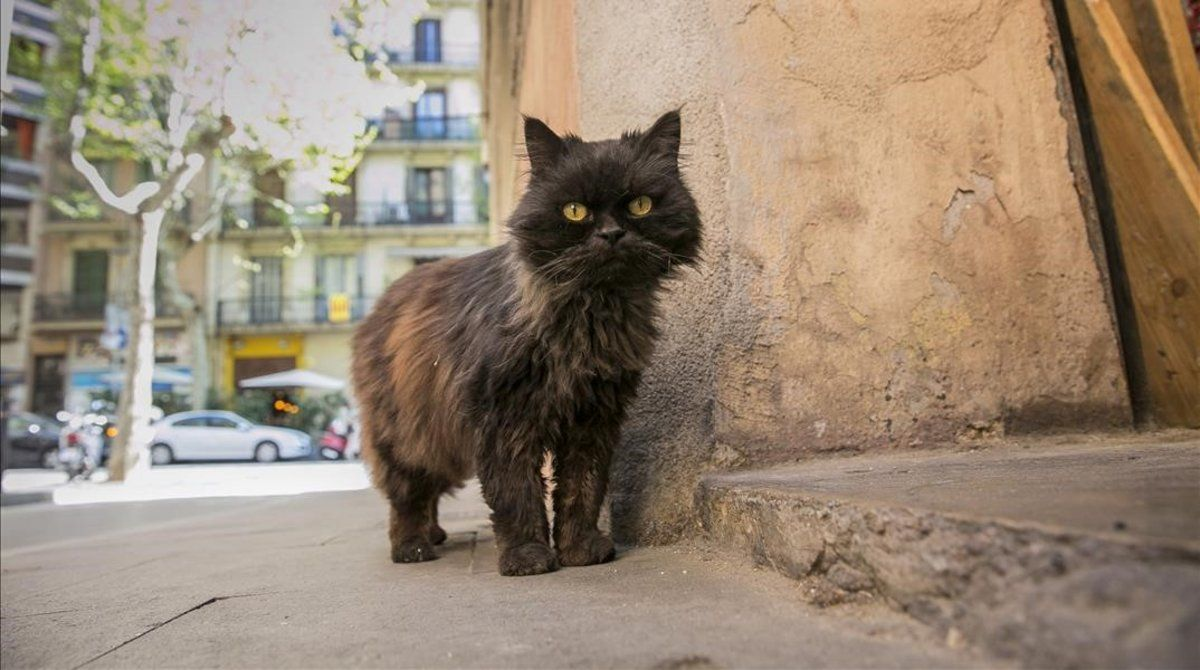cat: (316, 137, 698, 587)
